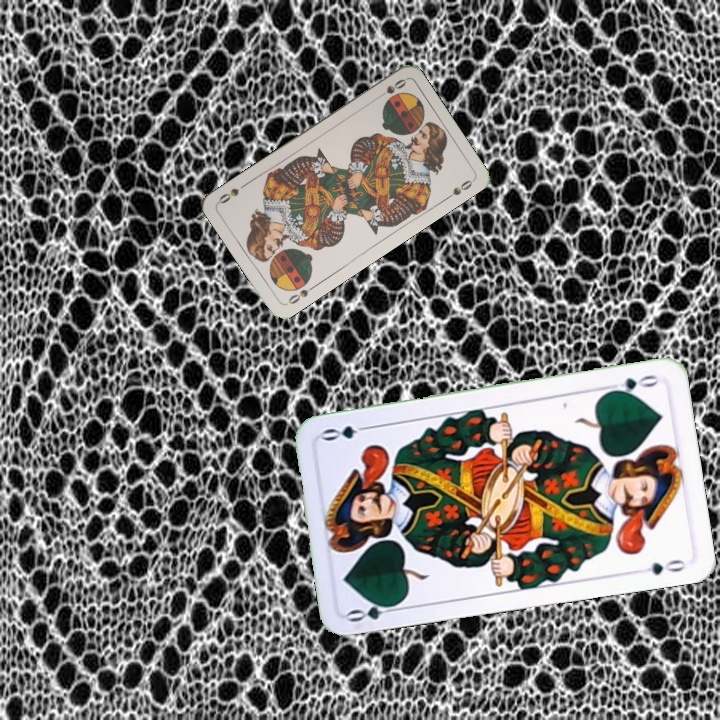GO: (344, 597, 403, 625), (603, 371, 662, 397)
SO: (372, 75, 409, 102), (282, 281, 319, 307)
